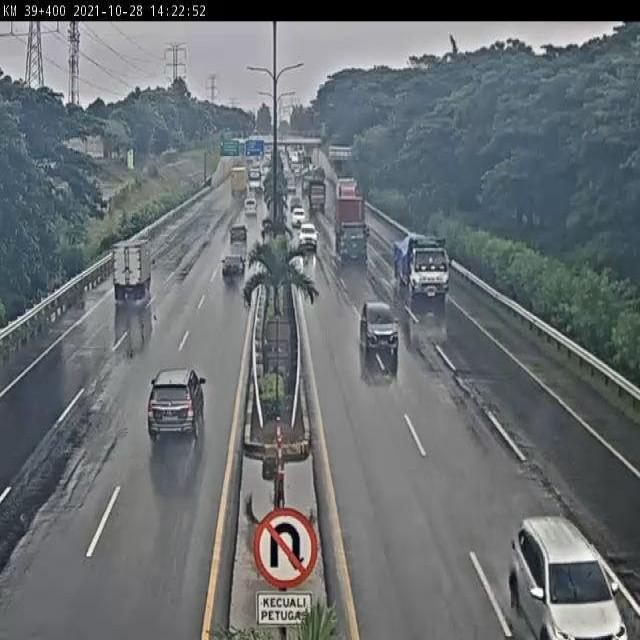truck-l-: (393, 231, 450, 297)
truck-s-: (108, 235, 153, 305)
truck-xl-: (330, 196, 368, 264)
